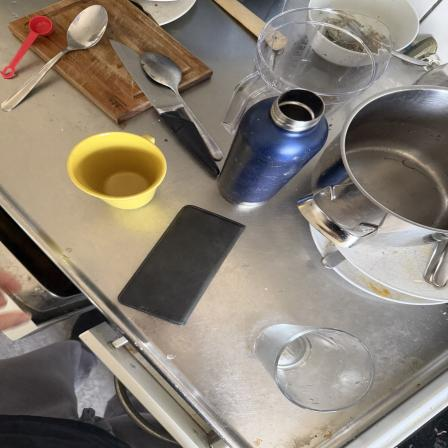blue_bottle: (220, 90, 330, 208)
phone: (127, 203, 249, 323)
yellow_cup: (69, 132, 169, 213)
